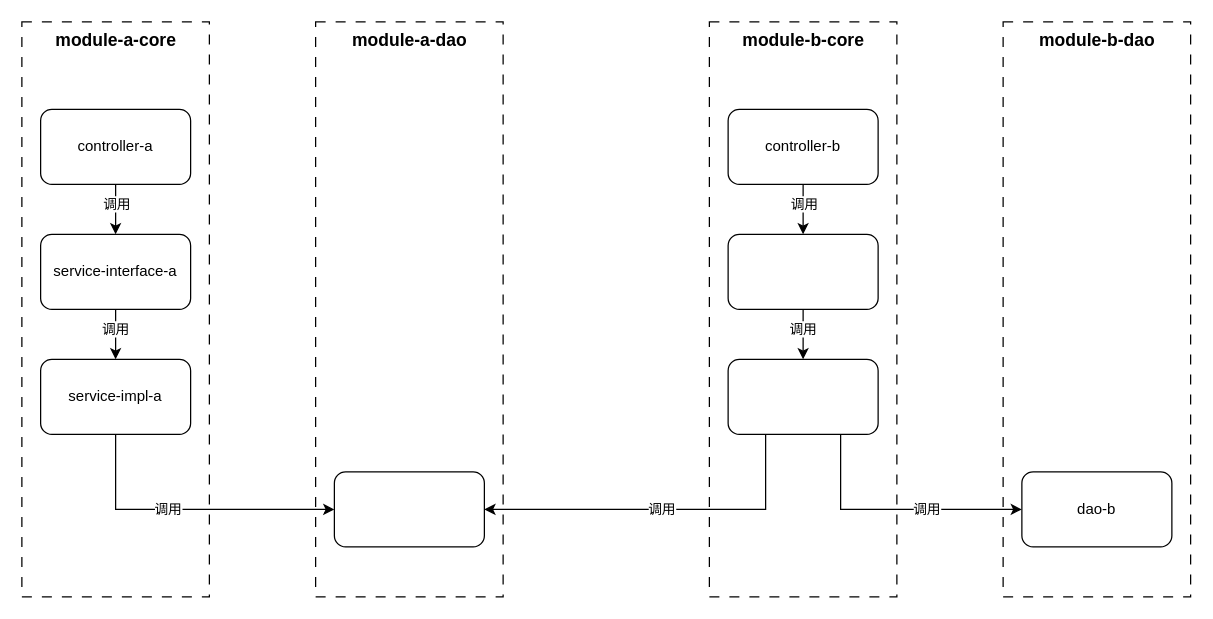
Some shapes in this 1213 by 619 pixel diagram are drawn without their labels. Each missing label, with the centre of its shape:
"dao-a" belongs at [408,509].
"service- interface-b" belongs at [802,271].
"service-impl-b" belongs at [802,396].
